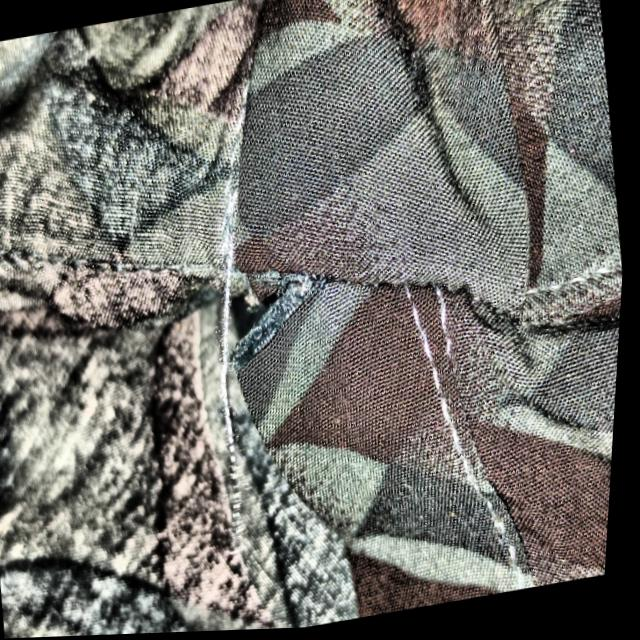Stitch: (184, 145, 376, 565)
